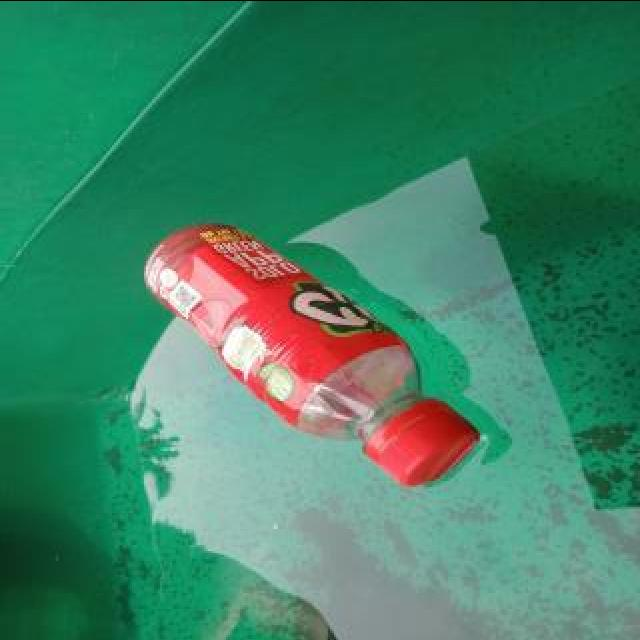Bottle: (136, 218, 486, 493)
